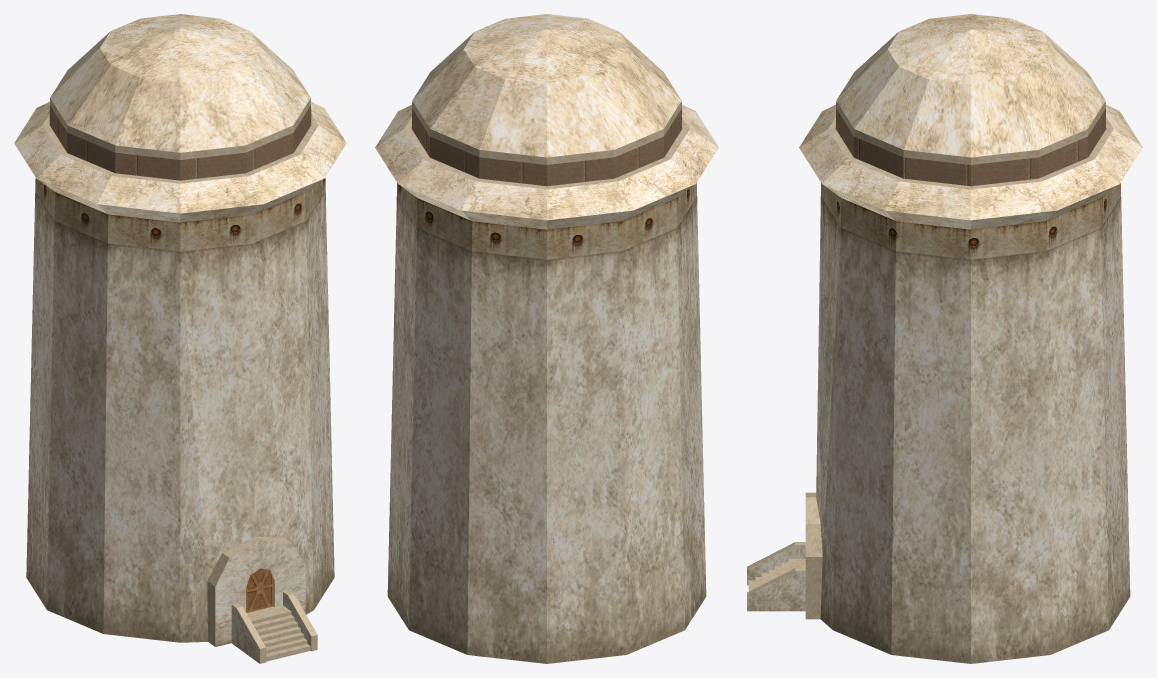
File: thm_tato_imprv_building_s09_l1.fbx
The picture shows the model from 3 angles, left to right: view 1: azimuth 30°, elevation 25°; view 2: azimuth 150°, elevation 25°; view 3: azimuth 270°, elevation 25°; orthographic projection. The views are drawn at different scales.
Parts seen in each view (by area): view 1: mesh_node; view 2: mesh_node; view 3: mesh_node.
Part boxes in pixels (x1=…): mesh_node: x1=14, y1=14, x2=346, y2=663; mesh_node: x1=375, y1=14, x2=718, y2=663; mesh_node: x1=747, y1=14, x2=1142, y2=663.
Bounding box in the file's own units: 21.87 × 39.78 × 25.18.
